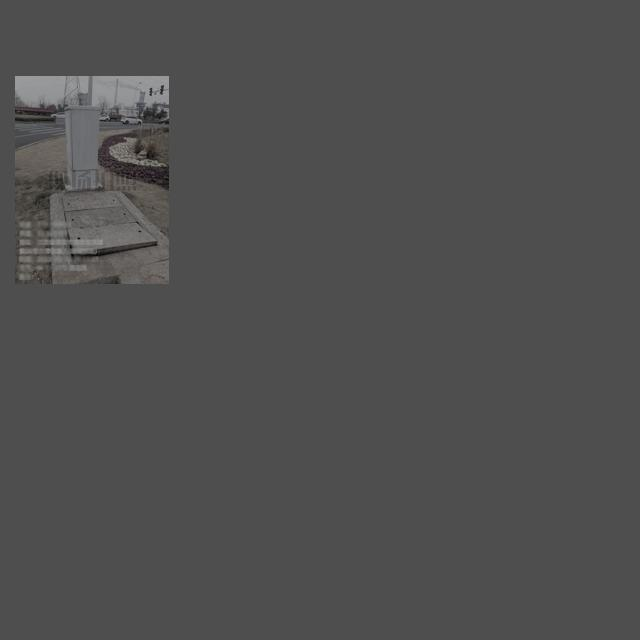uncovered: (59, 192, 162, 262)
